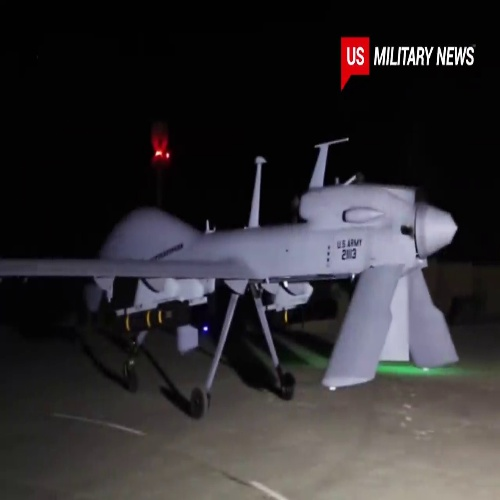uav: (7, 143, 465, 388)
